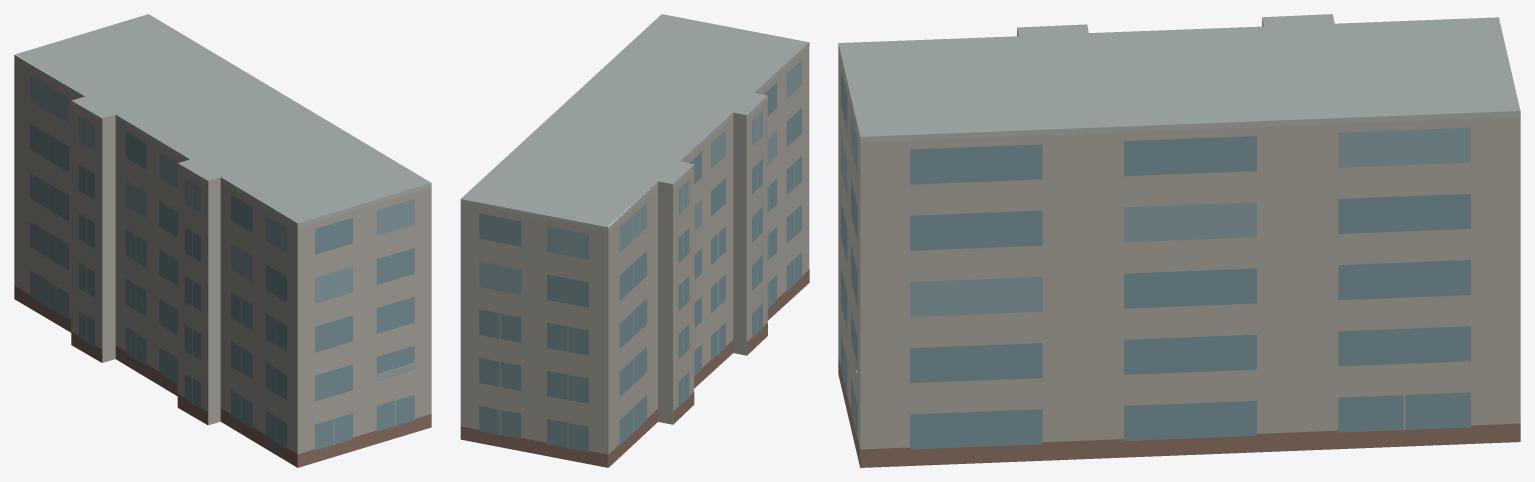
Rendered from survey-upis-32621007.glb.
The picture shows the model from 3 angles, left to right: view 1: azimuth 30°, elevation 25°; view 2: azimuth 150°, elevation 25°; view 3: azimuth 270°, elevation 25°; orthographic projection. The views are drawn at different scales.
Visible parts, largest first — view 1: survey-upis-32621007.tmp; view 2: survey-upis-32621007.tmp; view 3: survey-upis-32621007.tmp.
Part boxes in pixels (x1=…): survey-upis-32621007.tmp: x1=14, y1=14, x2=431, y2=467; survey-upis-32621007.tmp: x1=460, y1=14, x2=809, y2=467; survey-upis-32621007.tmp: x1=838, y1=14, x2=1520, y2=467.
Bounding box in the file's own units: 11.47 × 14.4 × 26.9.
